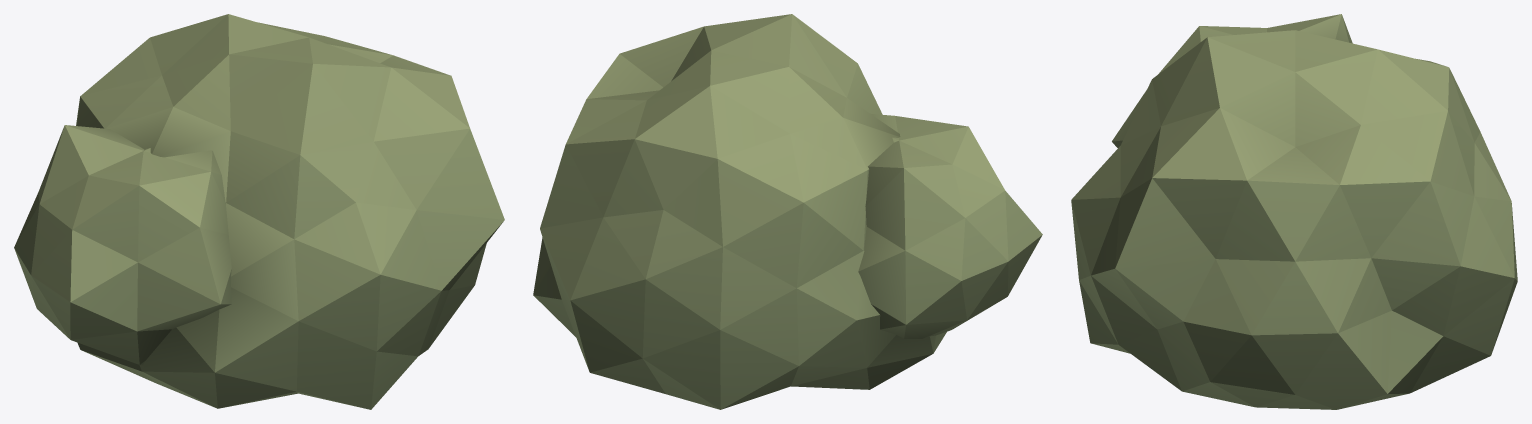
The model's file is bush.glb.
3 views of the same model, side by side, from view 1: azimuth 30°, elevation 25°; view 2: azimuth 150°, elevation 25°; view 3: azimuth 270°, elevation 25° (orthographic). The views are drawn at different scales.
Visible parts, largest first — view 1: bush; view 2: bush; view 3: bush.
Part boxes in pixels (box(x1,y1,x2,y2)): bush: box(14, 14, 504, 409); bush: box(533, 14, 1042, 409); bush: box(1071, 14, 1517, 409).
Bounding box in the file's own units: 2.09 × 1.36 × 1.8.
